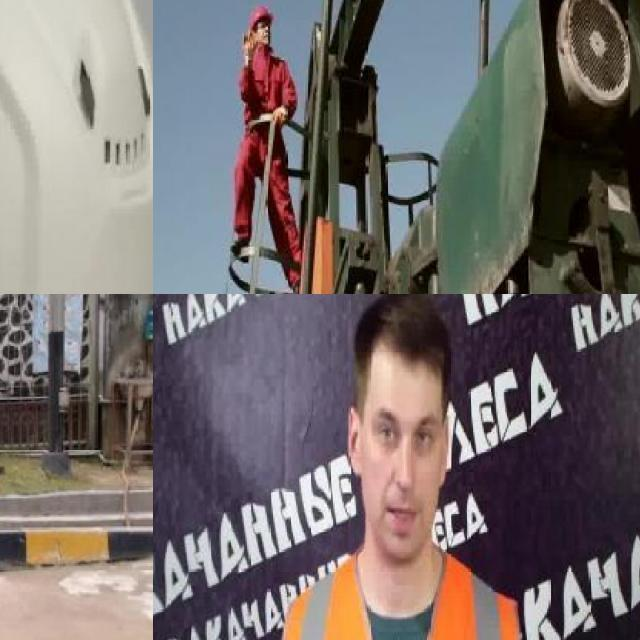apron: (241, 30, 256, 61), (272, 106, 285, 128)
